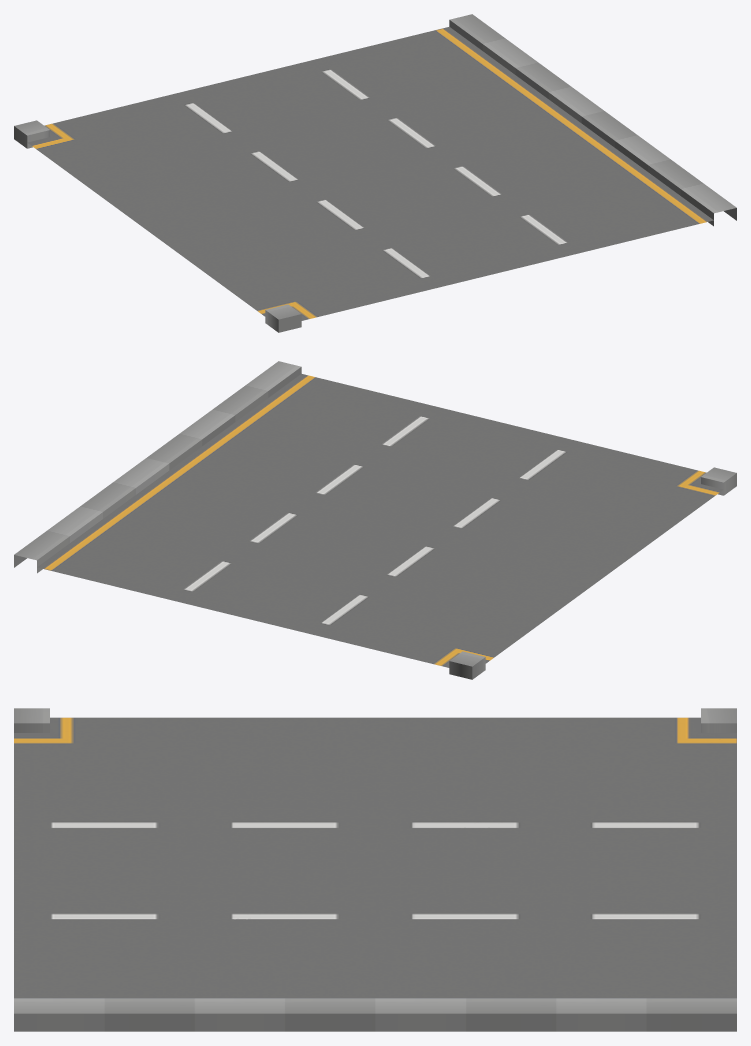
File: Road_D.fbx
3 renders of one model, top to bottom at view 1: azimuth 30°, elevation 25°; view 2: azimuth 150°, elevation 25°; view 3: azimuth 270°, elevation 25°, orthographic. The views are drawn at different scales.
Visible parts, largest first — view 1: Road_D; view 2: Road_D; view 3: Road_D.
Part boxes in pixels (bbox=[...]): Road_D: bbox=[14, 14, 736, 332]; Road_D: bbox=[14, 361, 736, 679]; Road_D: bbox=[14, 708, 736, 1031].
Bounding box in the file's own units: 2000 × 55.12 × 2000.
